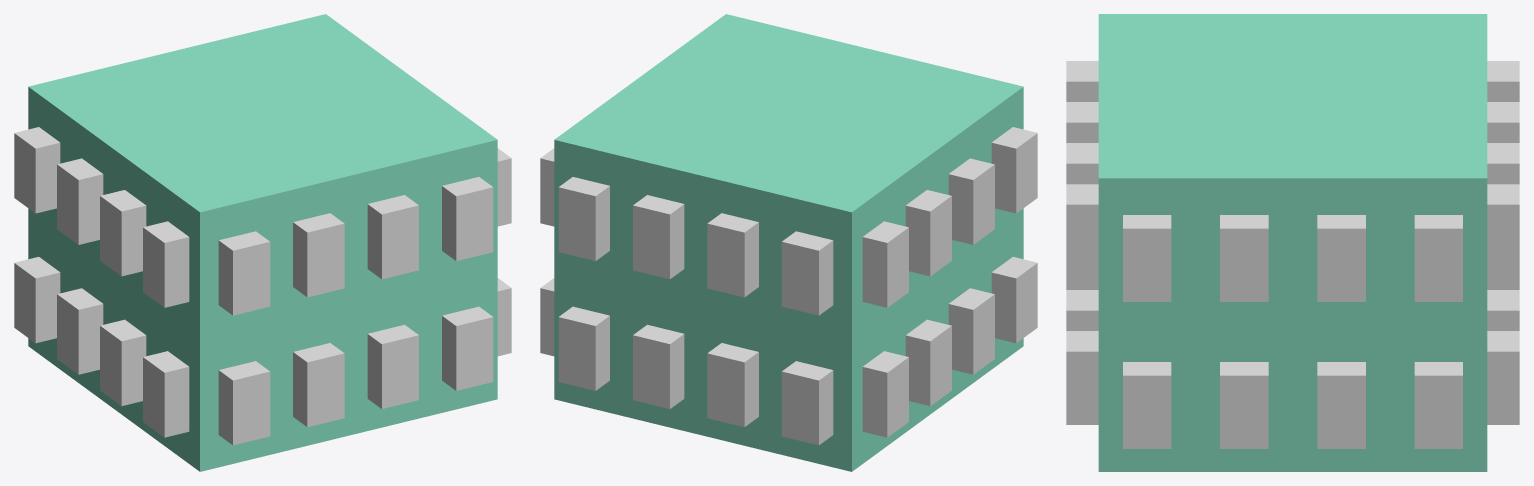
The model's file is Skyscraper 2.fbx.
The picture shows the model from 3 angles, left to right: view 1: azimuth 30°, elevation 25°; view 2: azimuth 150°, elevation 25°; view 3: azimuth 270°, elevation 25°; orthographic projection. The views are drawn at different scales.
Visible parts, largest first — view 1: Cube.001, Cube.002, Cube.006; view 2: Cube.001, Cube.002, Cube.006; view 3: Cube.001, Cube.006, Cube.002.
Part boxes in pixels (x1,y1,x2,y2): Cube.001: (28,14,497,471); Cube.002: (218,177,493,445); Cube.006: (14,127,511,437); Cube.001: (554,14,1023,471); Cube.002: (558,177,833,445); Cube.006: (540,127,1037,437); Cube.001: (1098,14,1487,471); Cube.006: (1123,215,1462,448); Cube.002: (1066,61,1519,424).
Size of the model in its own units: 213 by 152 by 213.
